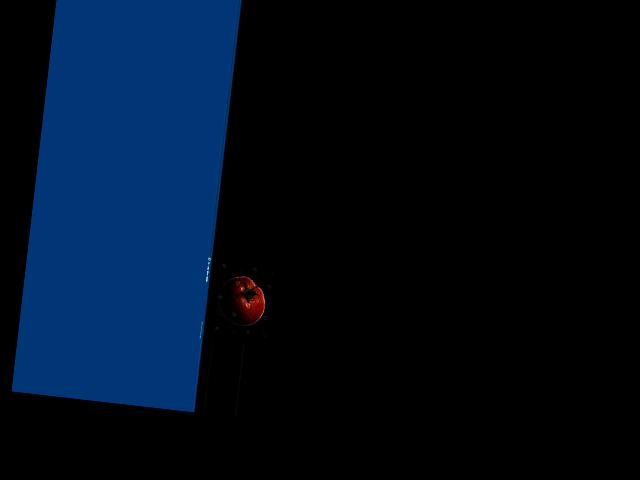tomato: (215, 273, 267, 328)
